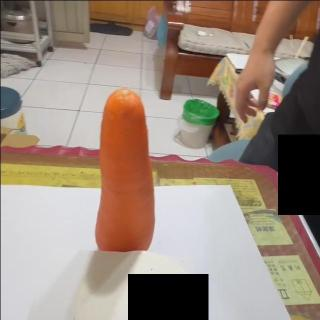carrot: (98, 88, 154, 254)
